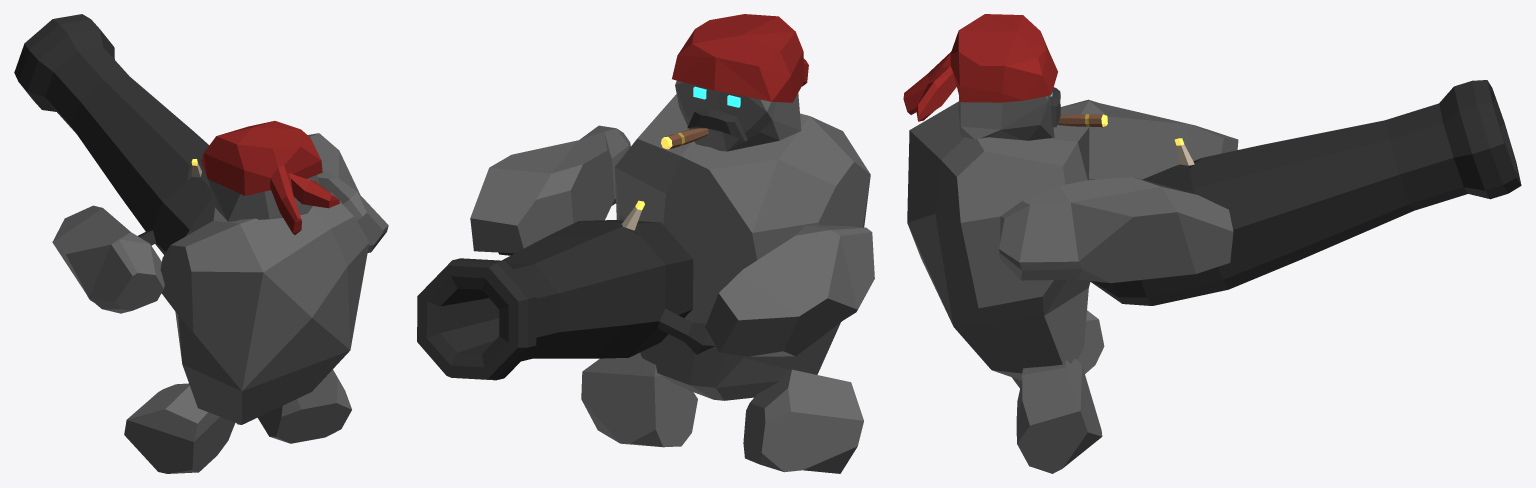
The model's file is Cannon Golem2.fbx.
The picture shows the model from 3 angles, left to right: view 1: azimuth 30°, elevation 25°; view 2: azimuth 150°, elevation 25°; view 3: azimuth 270°, elevation 25°; orthographic projection. The views are drawn at different scales.
Visible parts, largest first — view 1: CannonGolem; view 2: CannonGolem; view 3: CannonGolem.
Boxes of the visible parts, x1,y1,x2,y2 form: CannonGolem: (14,14,388,473); CannonGolem: (417,14,874,473); CannonGolem: (903,14,1521,473).
Size of the model in its own units: 478 by 576 by 824.
